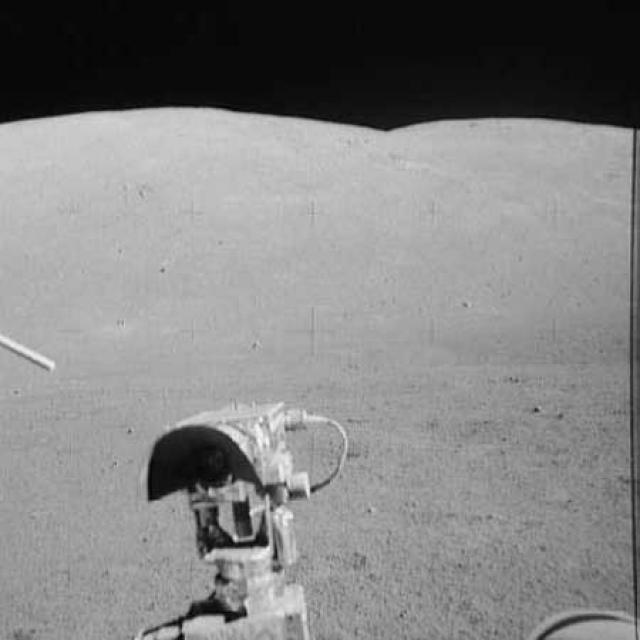artifact: (132, 396, 360, 638), (0, 318, 68, 391)
